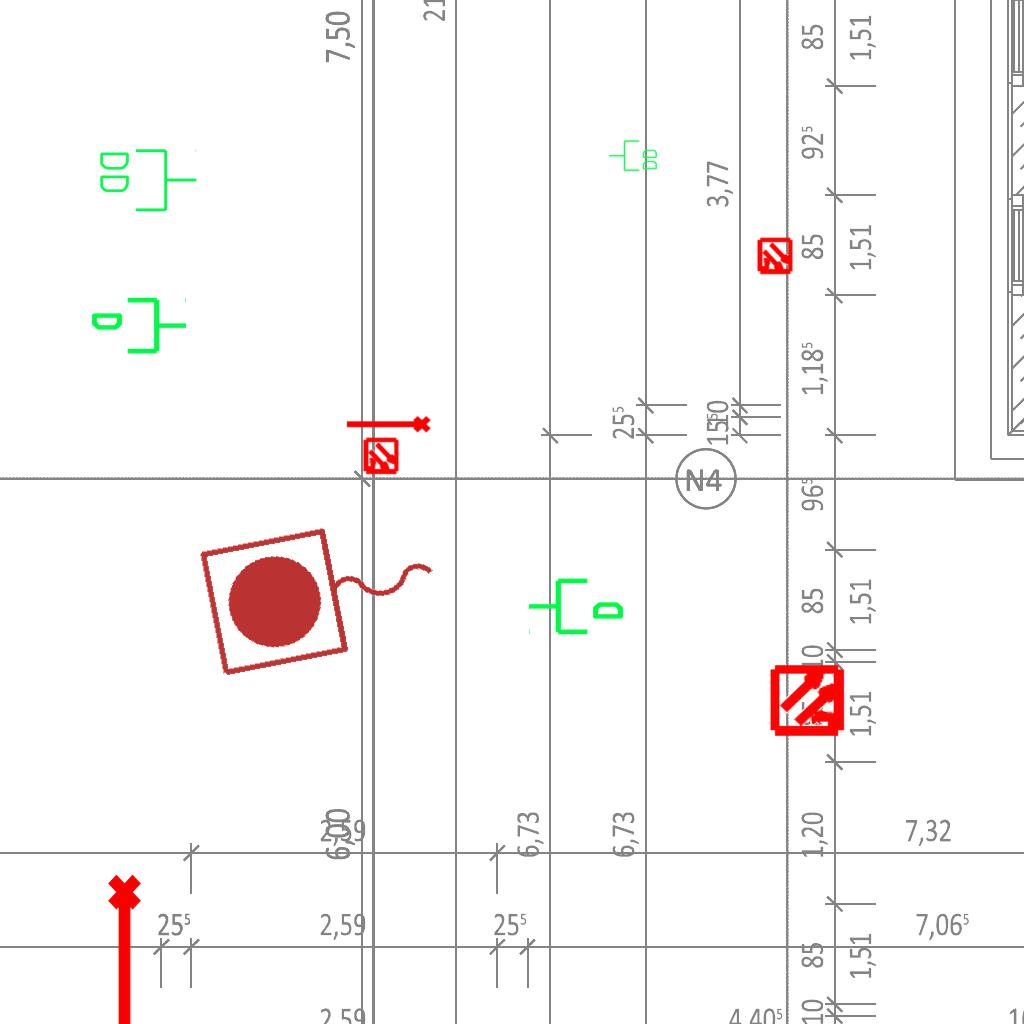ASR_Ansaugoeffnung: (104, 872, 150, 1024), (344, 414, 432, 437)
Datenanschluss_einfach: (526, 570, 626, 639), (89, 293, 189, 362)
Datenanschluss_zweifach: (96, 145, 199, 214), (608, 139, 659, 173)
OT_Multisensormelder_(Kombination_RMO_WMD): (753, 644, 866, 757), (747, 229, 803, 285), (353, 429, 409, 485)
Zugtaster: (190, 500, 458, 688)
